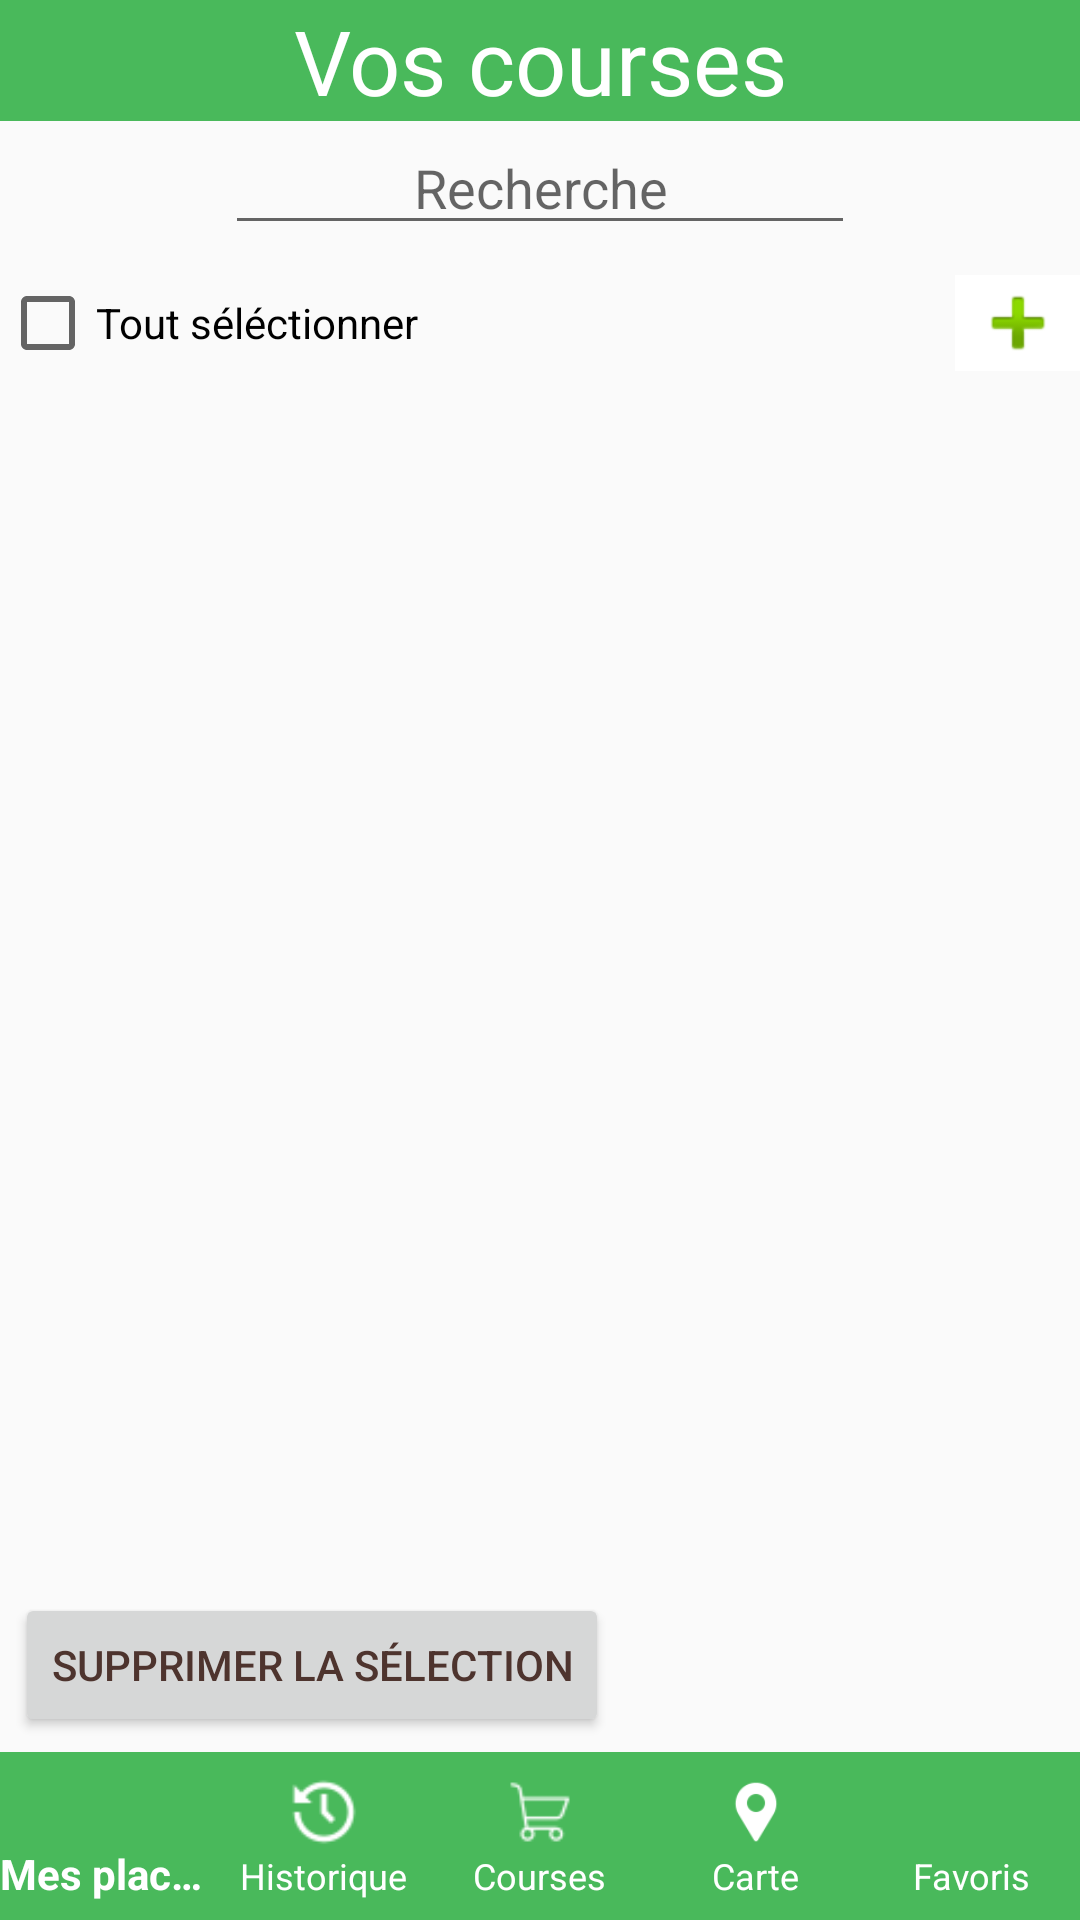

Icon bounding boxes for this 1080×1920 phone screenshot, format (x1, y1, x2, y2):
add: (991, 296, 1045, 350)
